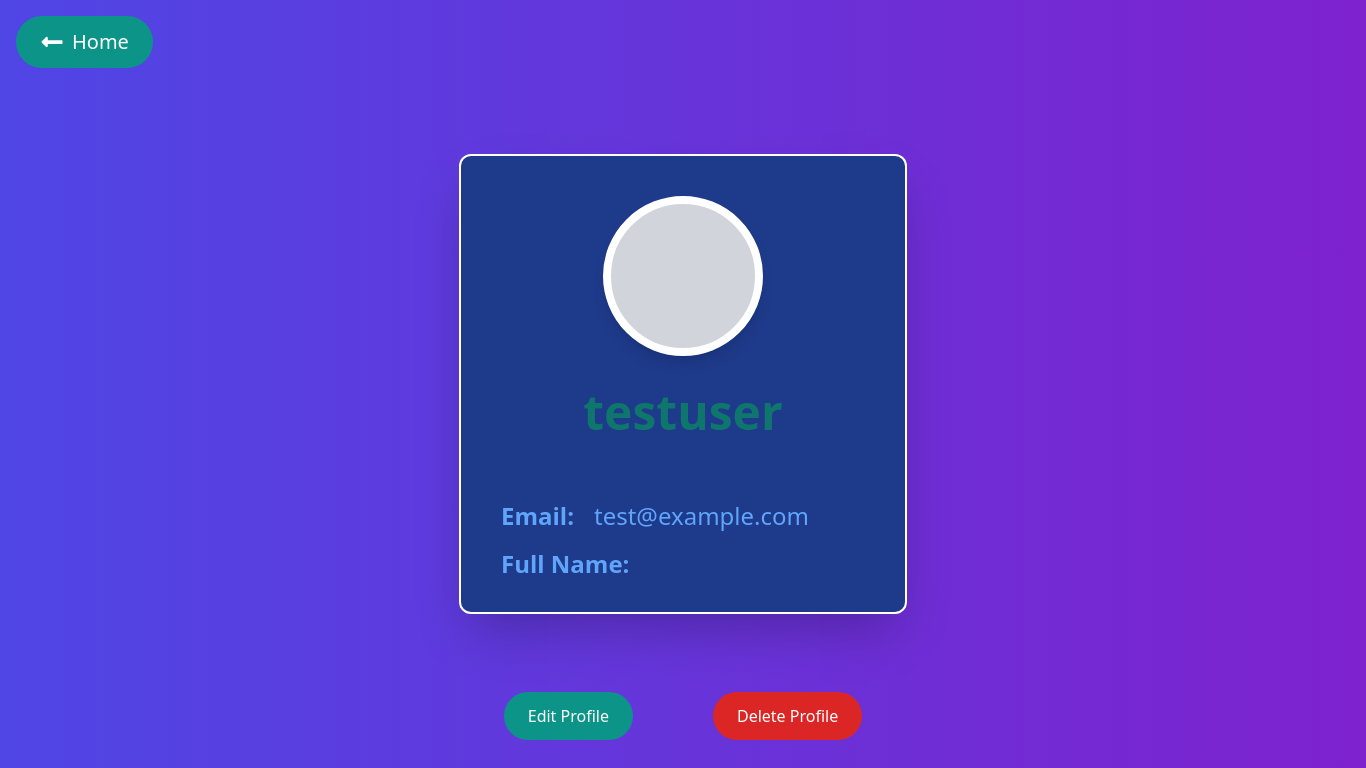
Scenario: Testing Integration › Edit profile popup open with user details
Click the button "Edit Profile": (568, 716) [504,692,633,740]
(page scrolled)
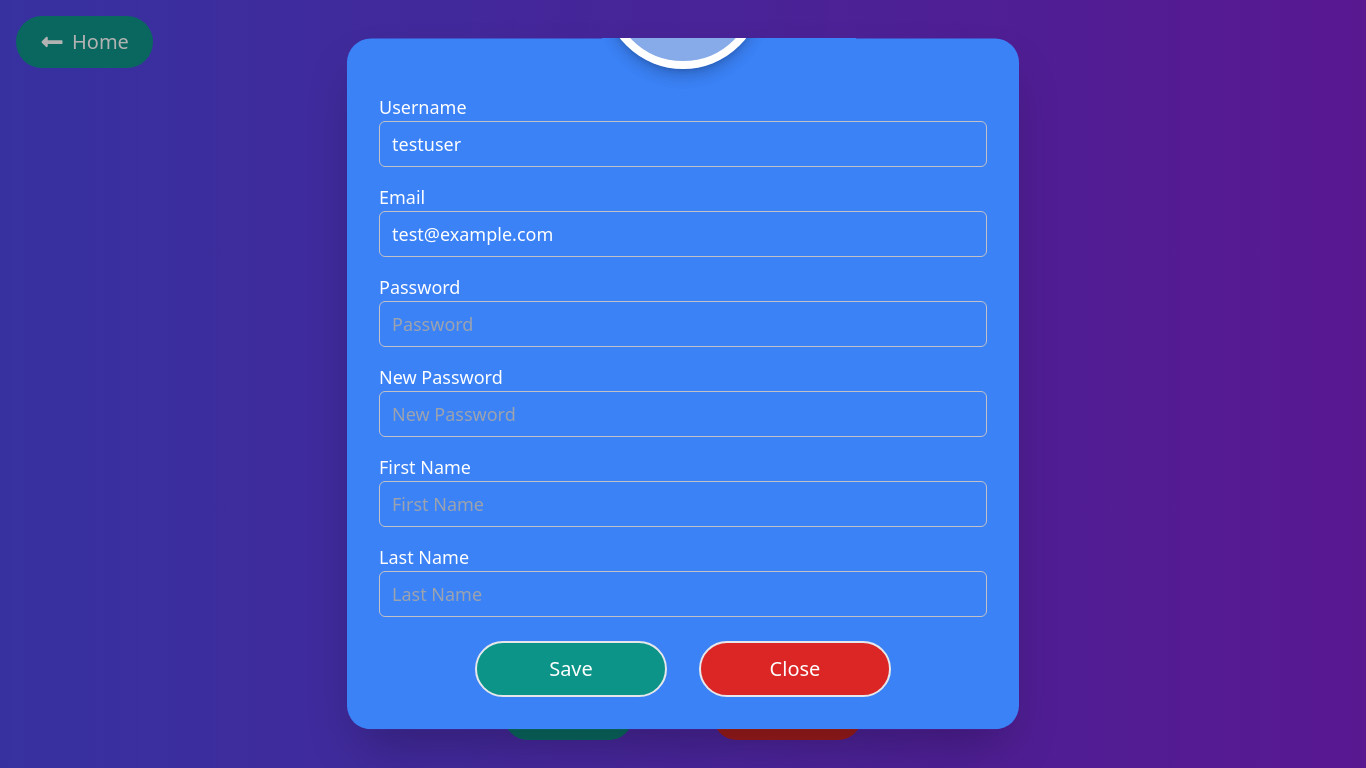
Expected: the password field labelled "New Password" is shown, [379,391,987,437]
Expected: the field labelled "Username" holds "testuser", [379,121,987,167]
Expected: the field labelled "Email" holds "test@example.com", [379,211,987,257]
